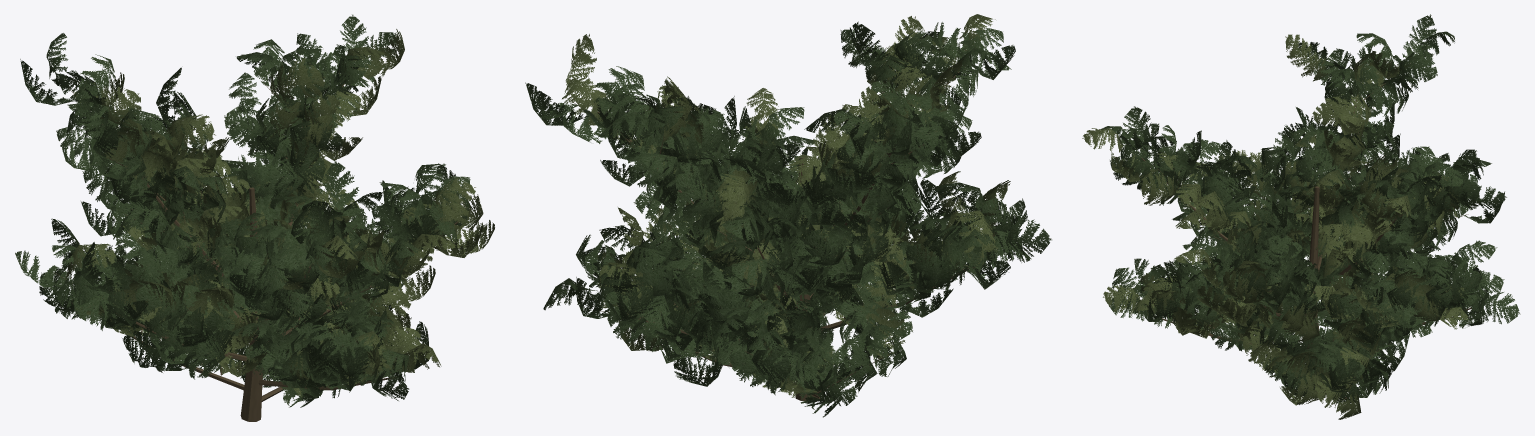
Rendered from SM_CN_Juniper_B.fbx.
3 renders of one model, left to right at view 1: azimuth 30°, elevation 25°; view 2: azimuth 150°, elevation 25°; view 3: azimuth 270°, elevation 25°, orthographic. The views are drawn at different scales.
Parts seen in each view (by area): view 1: SM_CN_Juniper_B; view 2: SM_CN_Juniper_B; view 3: SM_CN_Juniper_B.
Part boxes in pixels (<box>): SM_CN_Juniper_B: <box>15,14,494,421</box>; SM_CN_Juniper_B: <box>525,14,1051,417</box>; SM_CN_Juniper_B: <box>1082,14,1520,419</box>.
Size of the model in its own units: 3.3 by 3.5 by 2.65.
